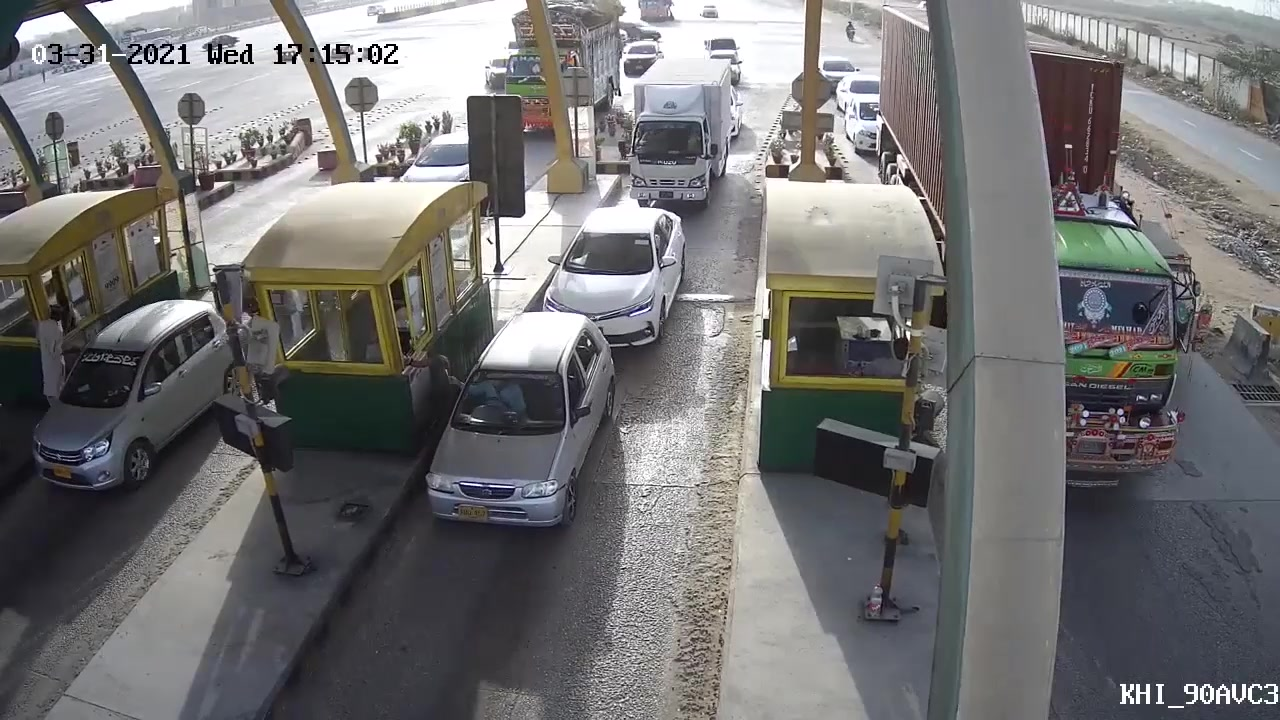F1: (408, 312, 620, 543), (533, 196, 691, 347)
